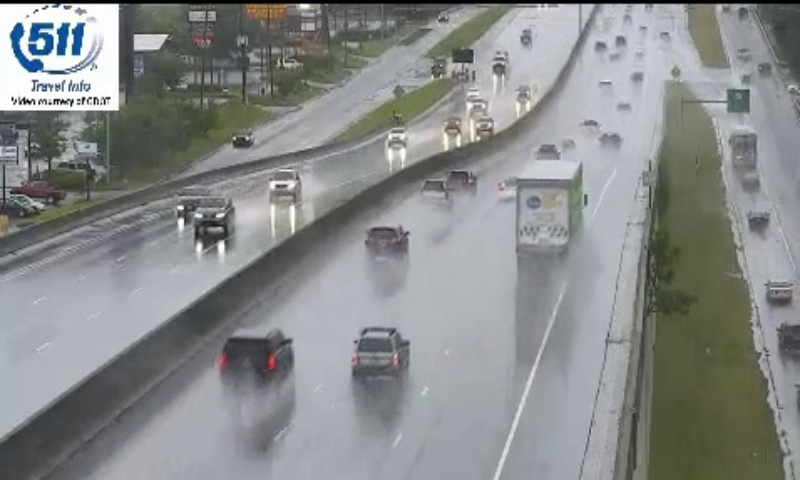car: (222, 331, 294, 386), (351, 329, 410, 380), (364, 226, 408, 262), (418, 179, 450, 209), (445, 169, 475, 196), (497, 177, 520, 198)
small-truck: (515, 158, 584, 257)
